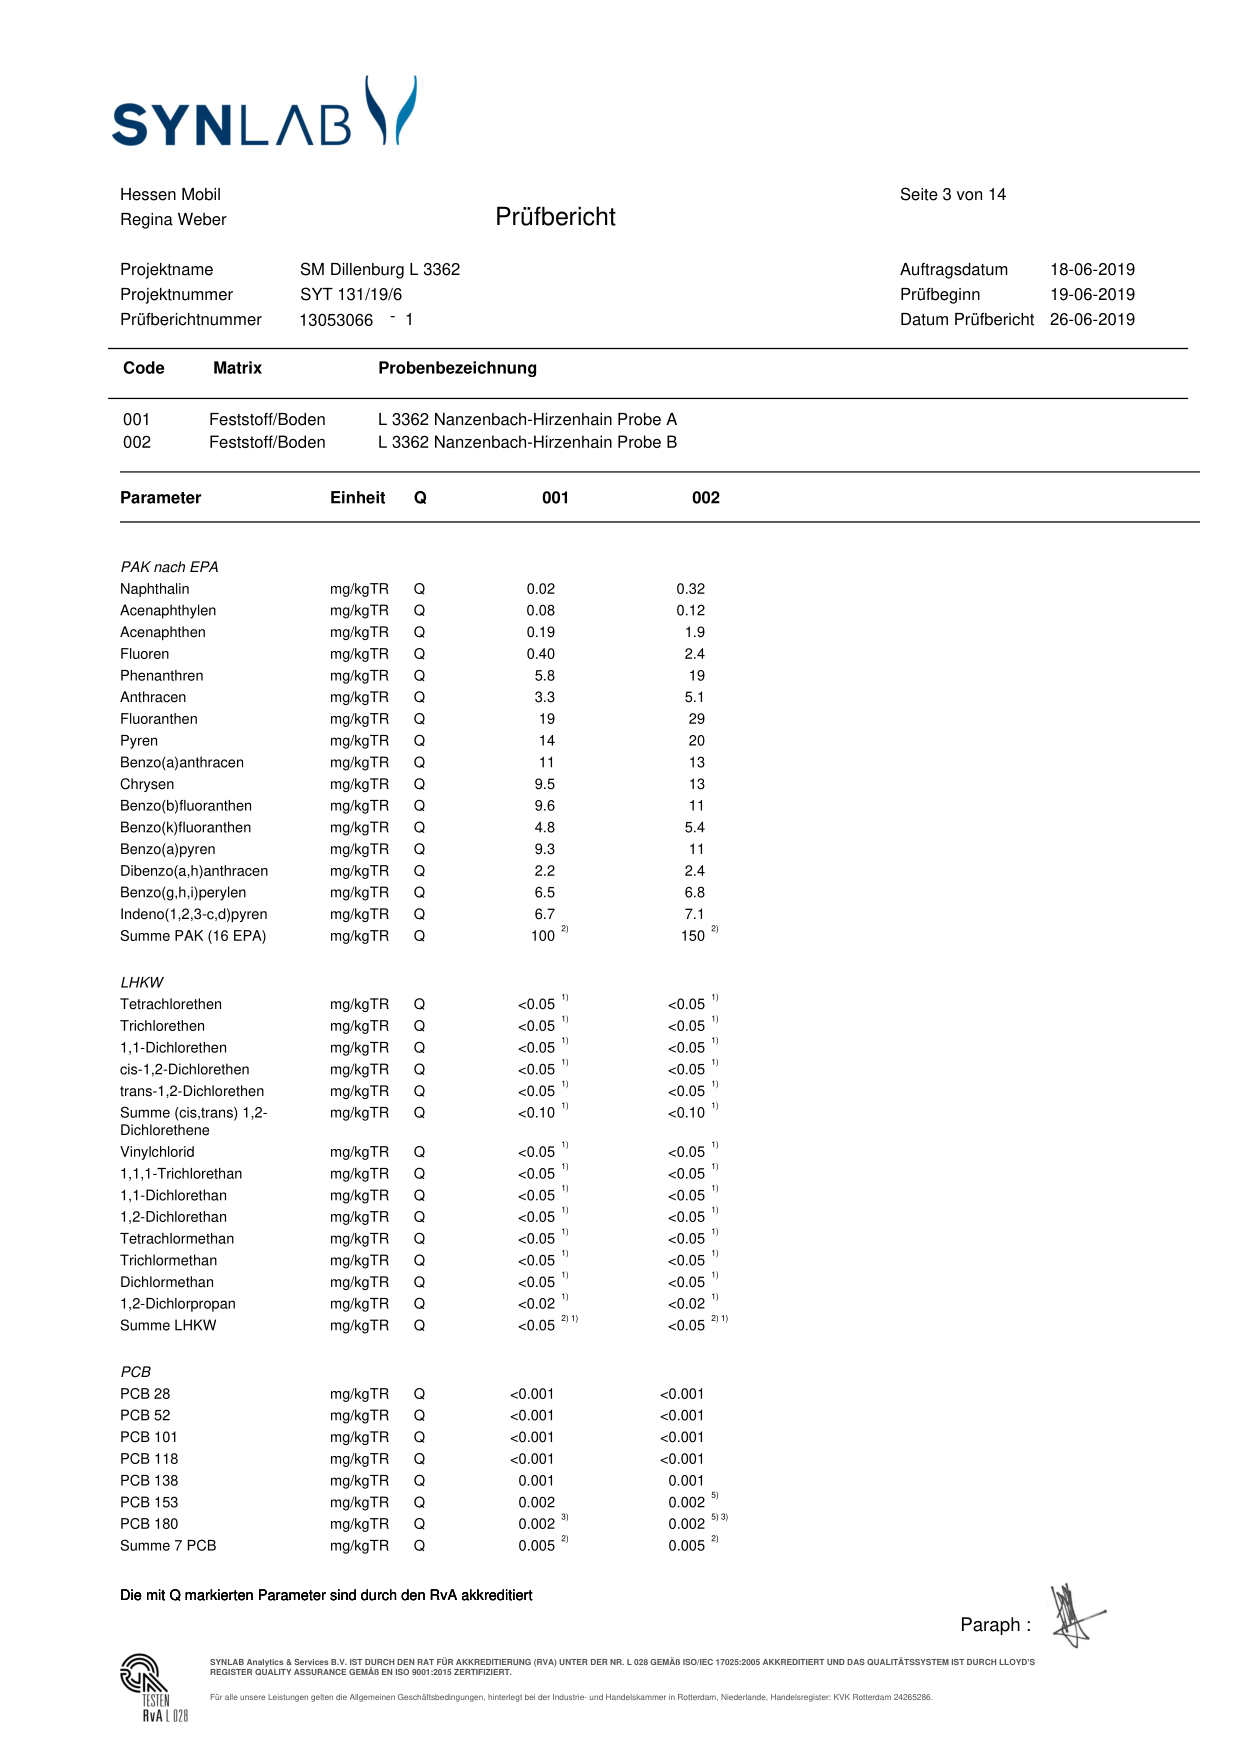table: (103, 553, 752, 958), (97, 970, 764, 1350), (103, 1355, 770, 1566)
